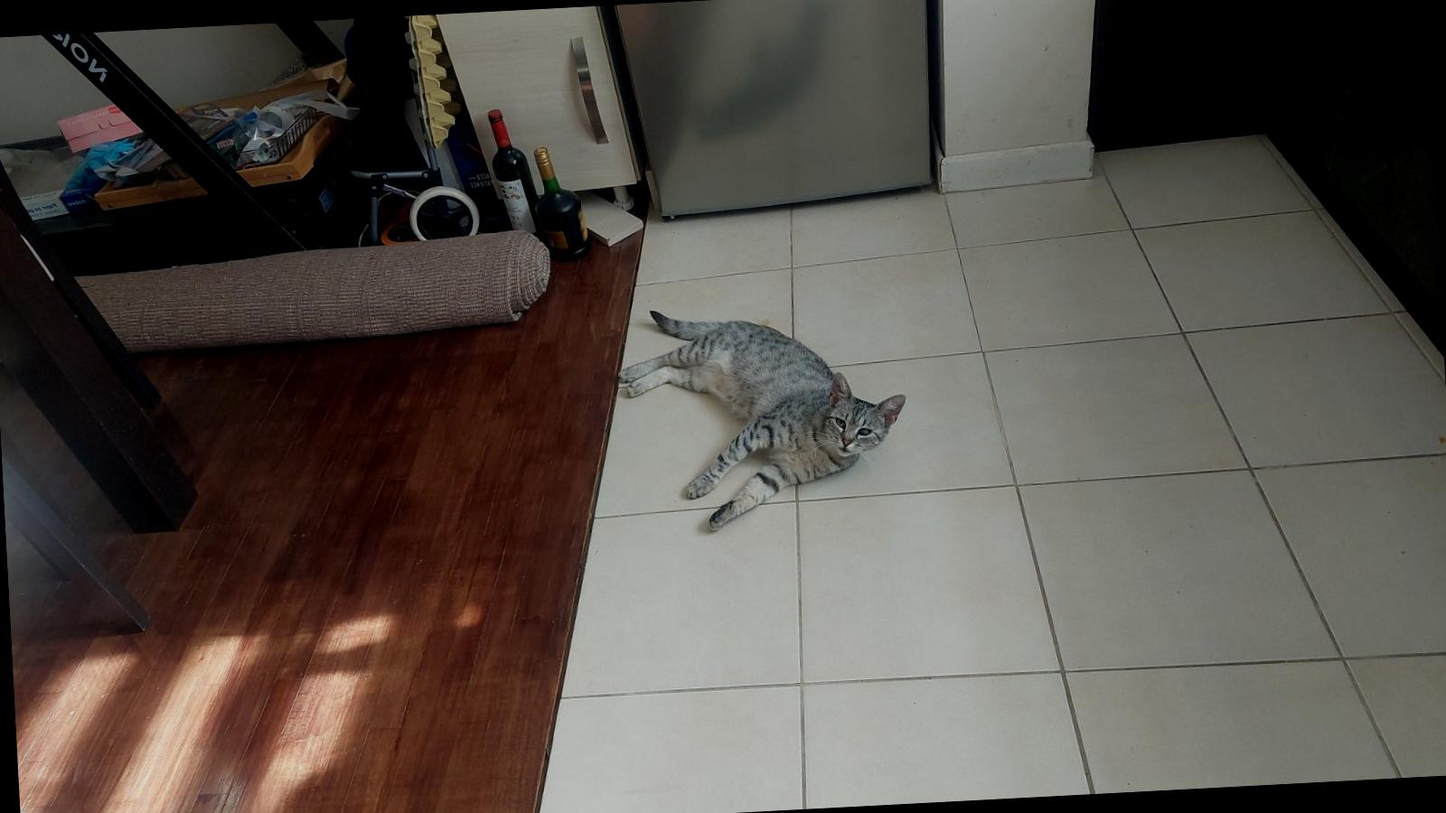macka: (612, 296, 913, 534)
